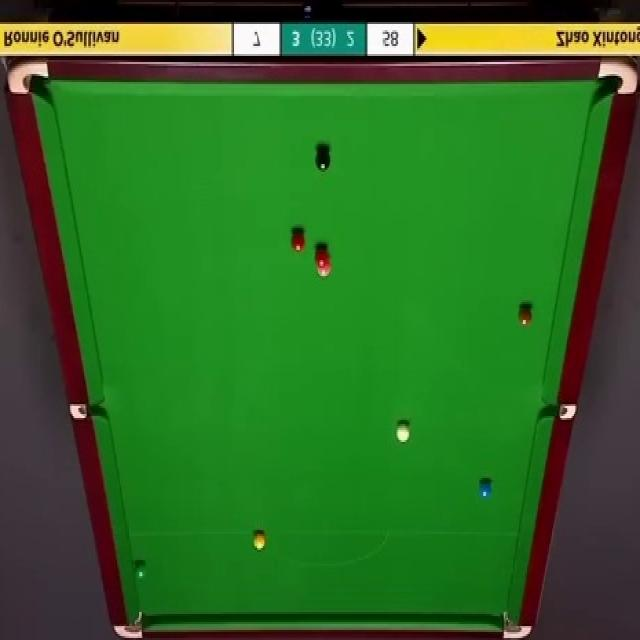pocket: (5, 57, 51, 95), (594, 60, 637, 98), (500, 608, 532, 640), (112, 611, 147, 640), (539, 403, 576, 420), (68, 403, 104, 420)
